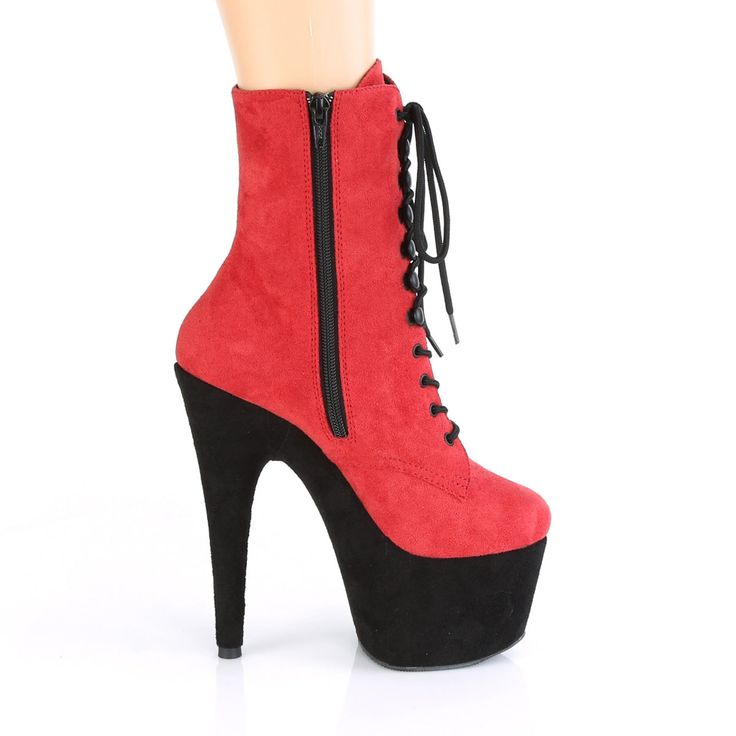gamuza: (174, 56, 551, 558)
